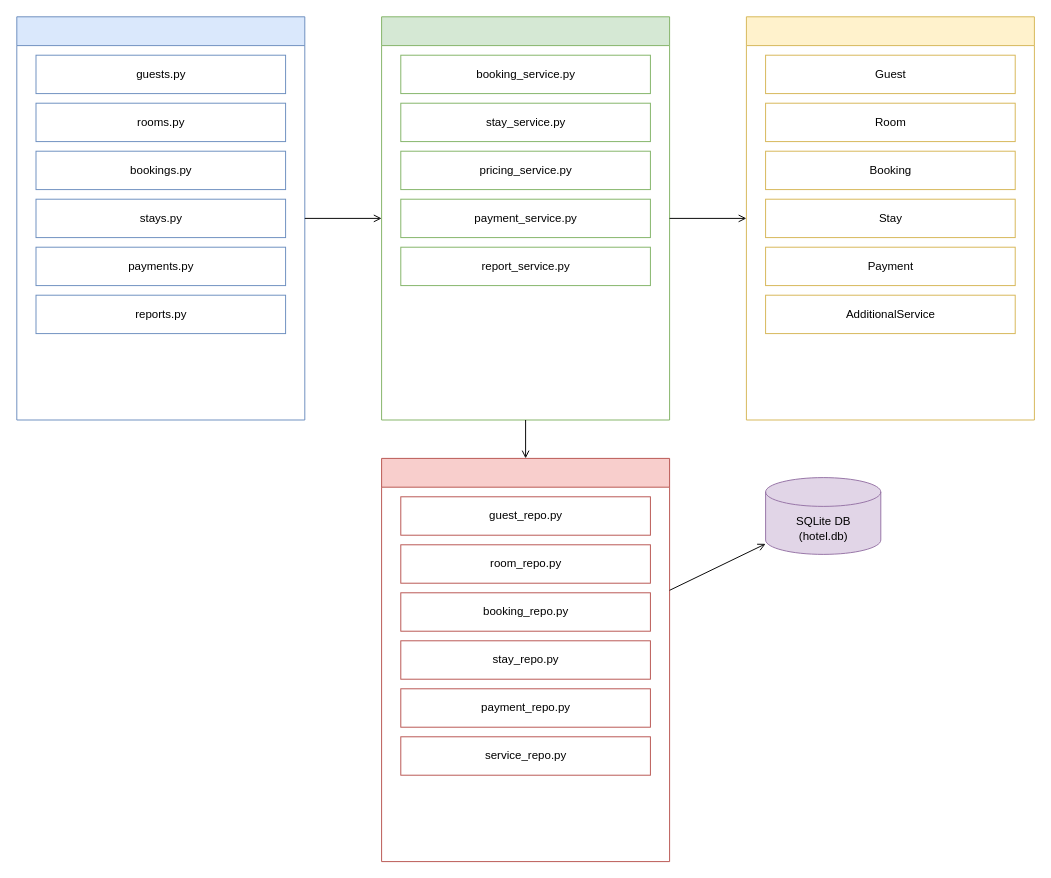
Some shapes in this 1051 by 878 pixel diagram are drawn without their labels. The box of each missing label's shape, as (x1, y1, x2, y2) in pixels:
Application (services/): (381, 16, 670, 420)
Domain (models/): (745, 16, 1034, 420)
Infrastructure (repositories/): (381, 457, 670, 862)
Presentation (routes/): (16, 16, 305, 420)
